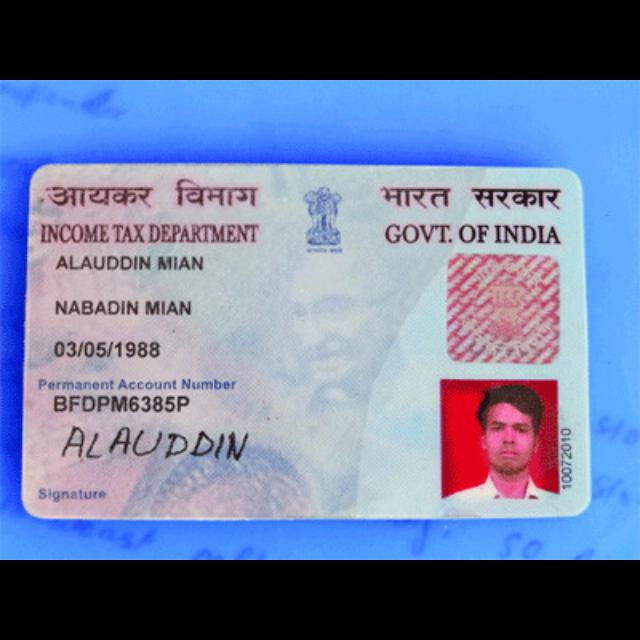pan: (19, 148, 598, 528)
